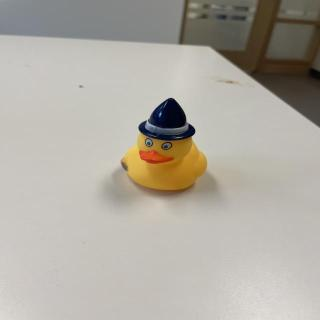duck_specialty: (120, 98, 210, 193)
